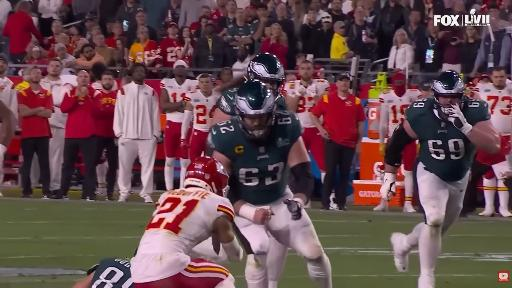Helmet: (235, 81, 275, 139), (184, 157, 228, 196), (248, 53, 285, 96), (432, 71, 466, 115)
Jersey: (208, 111, 302, 205), (137, 188, 234, 274), (406, 99, 475, 181), (379, 90, 421, 137), (475, 83, 511, 134), (283, 81, 317, 127), (186, 90, 220, 131), (90, 258, 134, 287), (313, 79, 330, 95), (166, 112, 183, 122), (276, 95, 287, 110)
Player: (381, 71, 499, 287), (209, 81, 331, 287), (131, 157, 242, 287), (474, 67, 511, 217), (161, 60, 198, 189), (284, 60, 325, 171), (379, 73, 421, 156), (181, 74, 220, 162), (247, 53, 287, 110), (247, 54, 287, 110), (73, 258, 134, 287), (418, 82, 432, 98)
